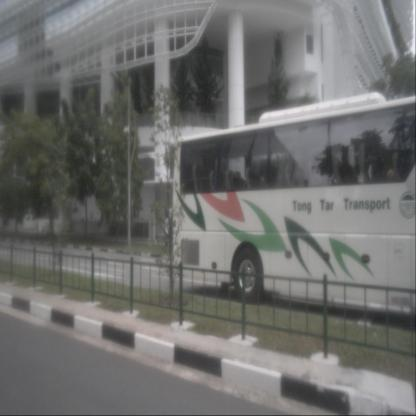vehicle-bus-rigid: (173, 93, 416, 323)
